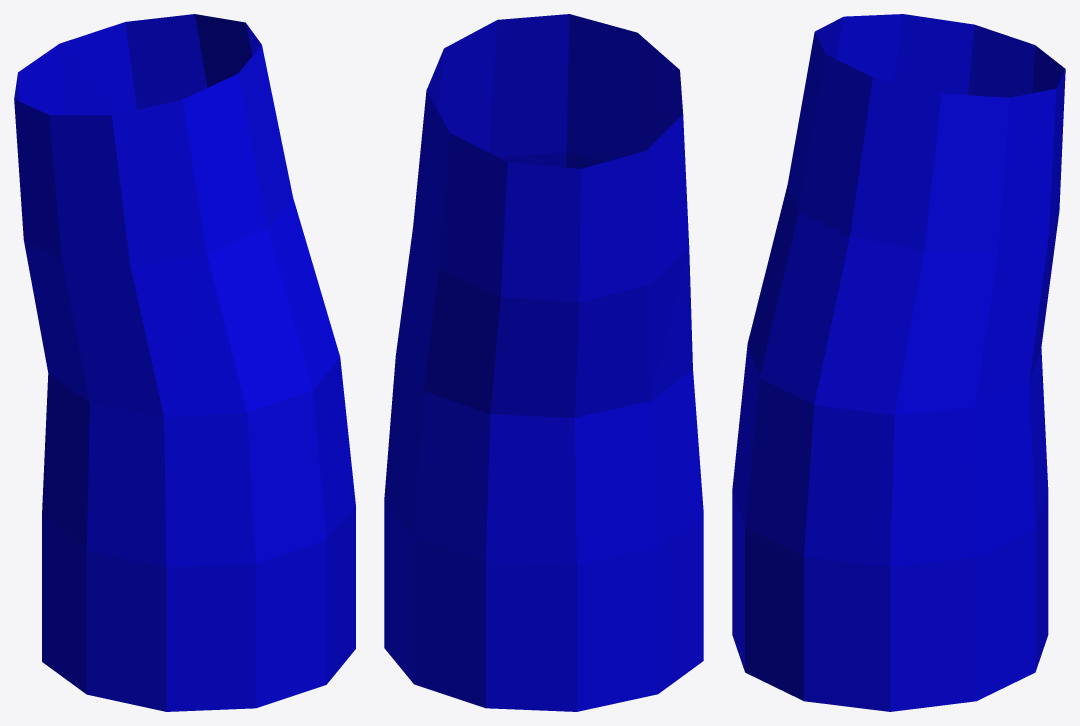
3 views of the same model, side by side, from view 1: azimuth 30°, elevation 25°; view 2: azimuth 150°, elevation 25°; view 3: azimuth 270°, elevation 25° (orthographic).
Parts seen in each view (by area): view 1: Cube; view 2: Cube; view 3: Cube.
Boxes of the visible parts, left/top/right/bottom form: Cube: left=14, top=14, right=355, bottom=711; Cube: left=384, top=14, right=703, bottom=711; Cube: left=732, top=14, right=1065, bottom=711.
Bounding box in the file's own units: 2.02 × 4.11 × 2.09.
